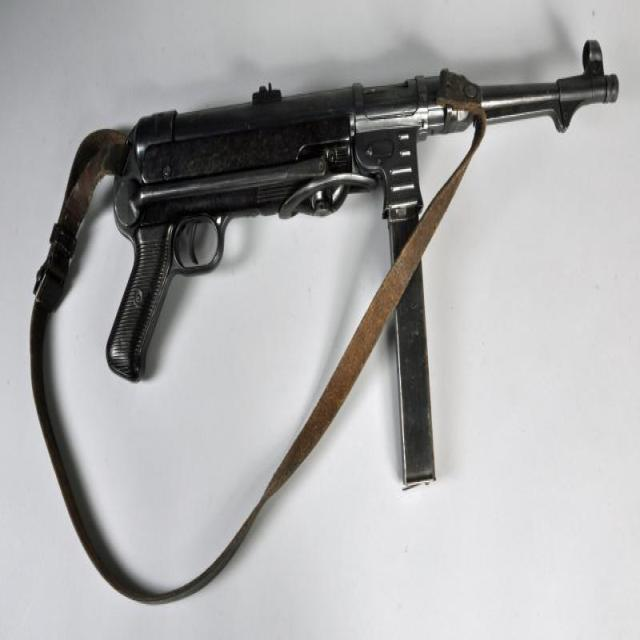SMG: (105, 39, 620, 486)
